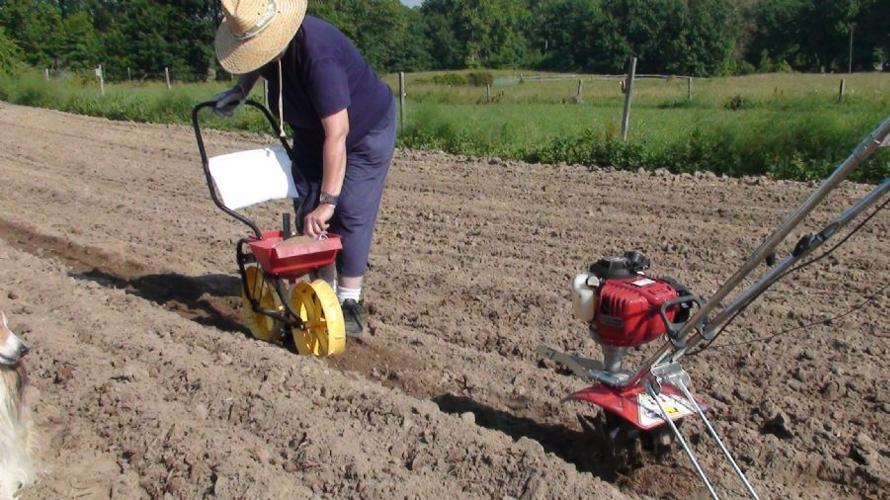person: (203, 3, 401, 338)
